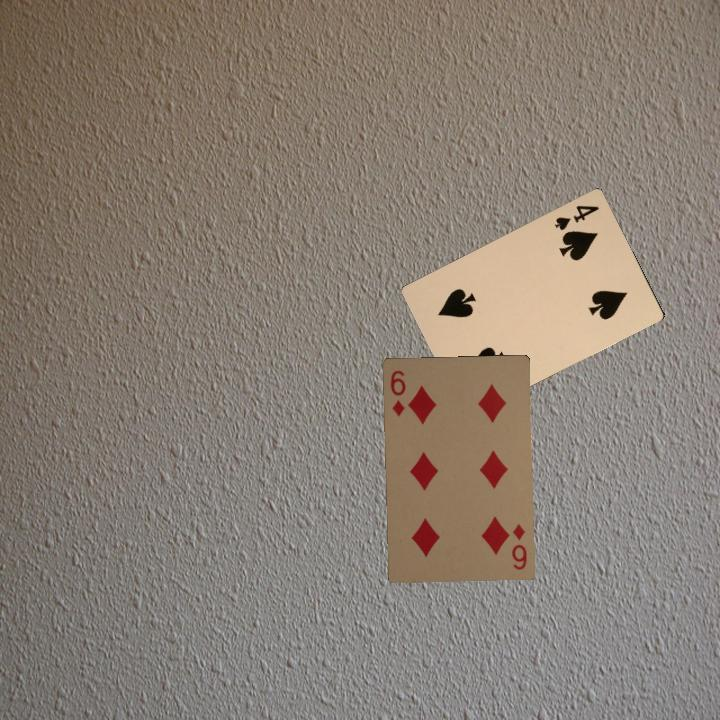4s: (551, 201, 601, 233)
6d: (387, 366, 408, 419), (508, 520, 529, 572)
